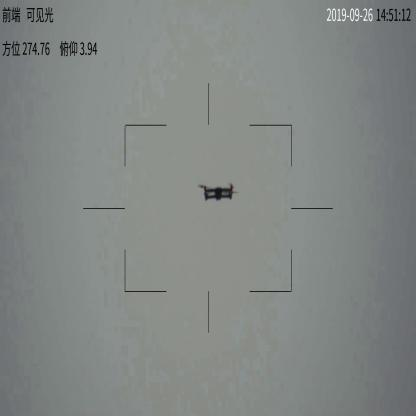uav: (196, 183, 240, 207)
